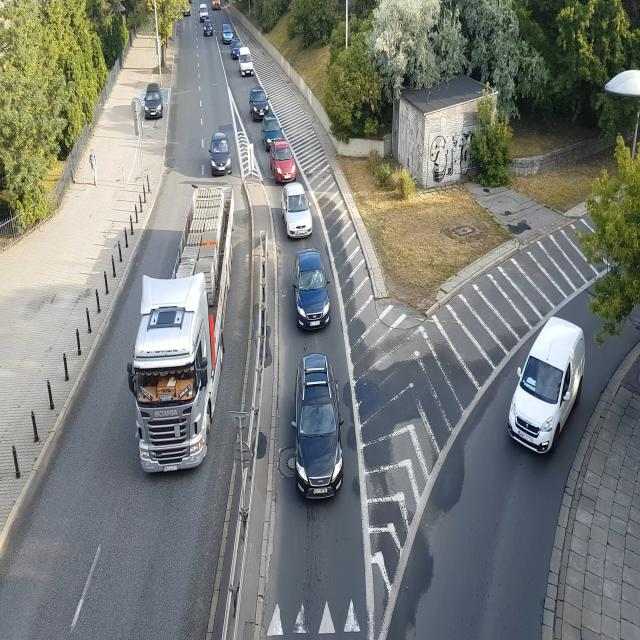car: (509, 321, 587, 458), (296, 350, 343, 498), (291, 245, 331, 337), (281, 183, 313, 240), (270, 141, 298, 183), (211, 133, 232, 178), (143, 85, 164, 119), (251, 88, 270, 121), (262, 116, 281, 145), (239, 60, 254, 75), (199, 3, 210, 22), (223, 25, 234, 43), (181, 0, 192, 18), (210, 0, 223, 14), (202, 20, 213, 36)
truck: (130, 182, 242, 471)
